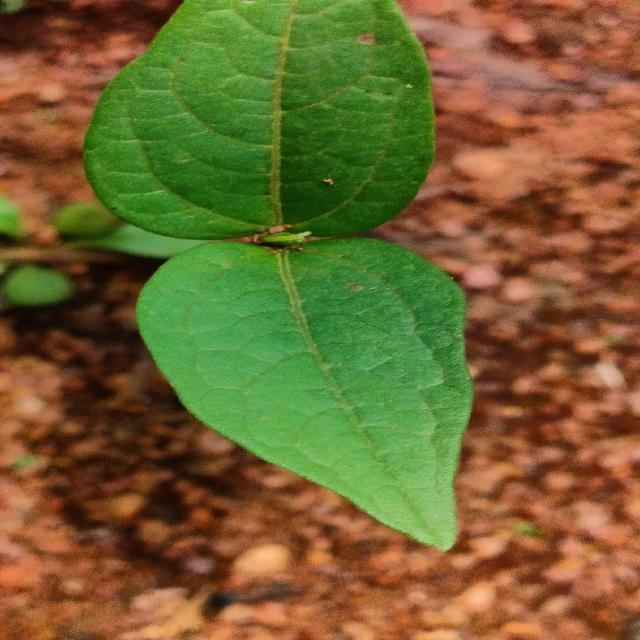Black gram_healthy: (136, 232, 472, 558), (83, 0, 440, 237)
